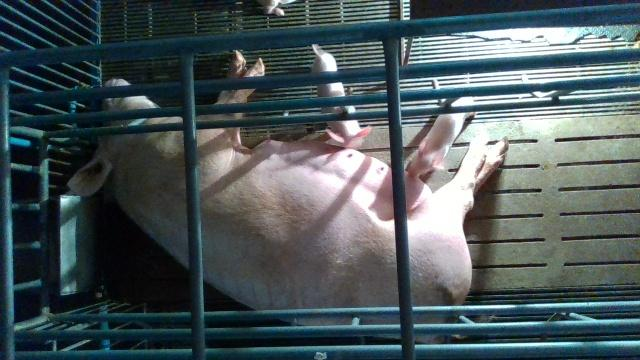piglet: (312, 44, 370, 148), (408, 96, 477, 178)
sow-sleep-lactate: (66, 49, 508, 343)
